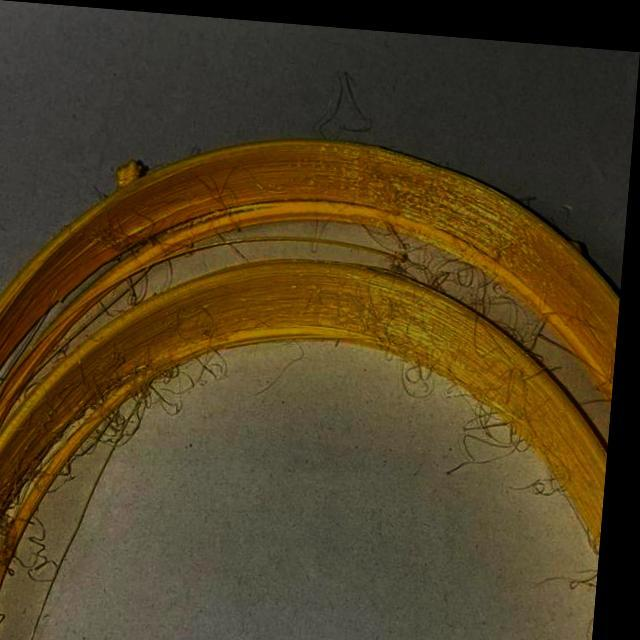stringing: (404, 234, 466, 283), (470, 396, 524, 450), (456, 252, 506, 306), (494, 280, 544, 327), (156, 357, 197, 412), (100, 400, 149, 444), (404, 346, 446, 392), (0, 482, 31, 536), (104, 225, 138, 258), (0, 542, 10, 588)
